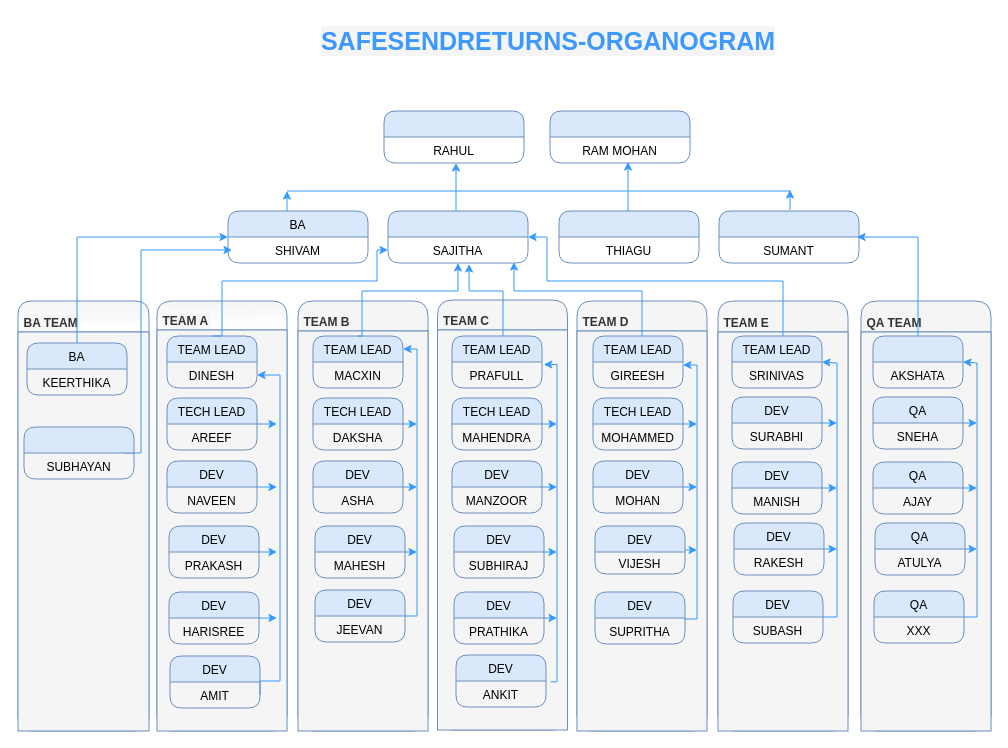
This 1008x748 diagram has some shape labels left out. The box of each missing label's shape, as (x1, y1, x2, y2) in pixels:
CTO: (383, 110, 524, 163)
DEV MANAGER: (387, 210, 528, 263)
DIRECTOR: (549, 110, 690, 163)
QA LEAD: (872, 335, 963, 388)
QA MANAGER: (718, 210, 859, 263)
SCRUM MASTER: (23, 426, 134, 479)
TECH.ARCHITECT: (558, 210, 699, 263)
